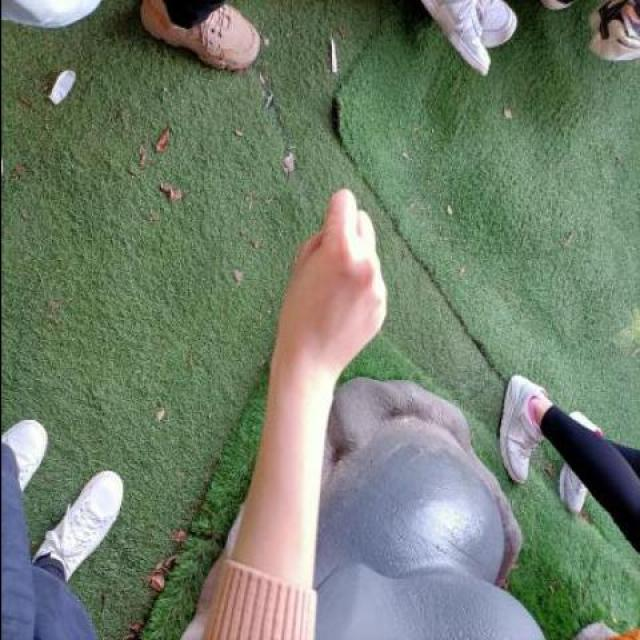fist: (256, 185, 401, 383)
